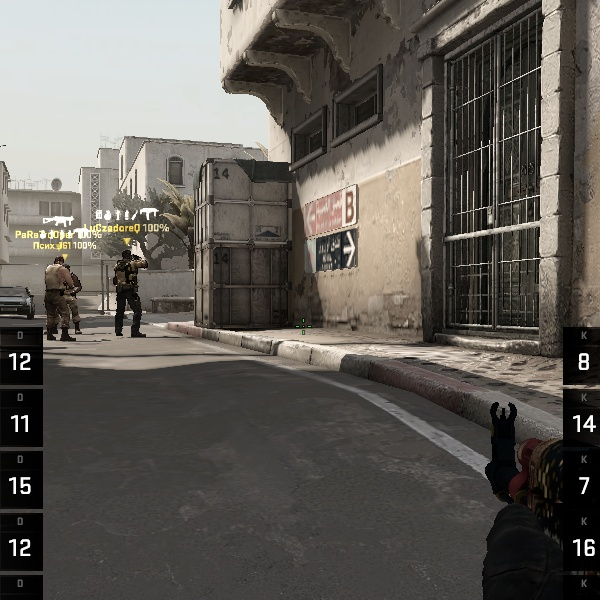t_body: (34, 253, 90, 341), (103, 248, 154, 339)
t_head: (121, 249, 134, 262), (53, 255, 66, 268)
